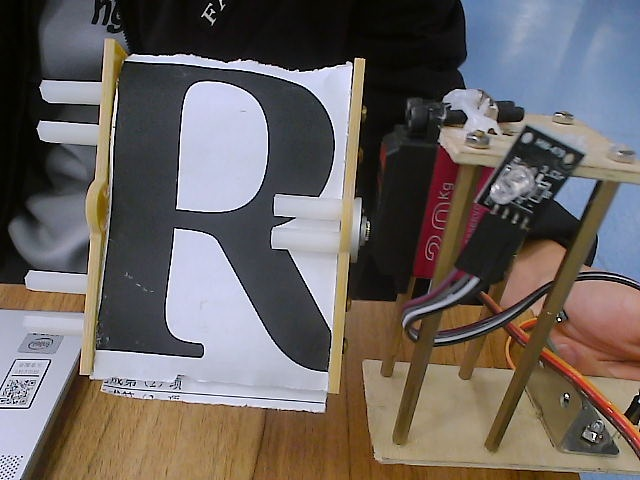R: (35, 43, 396, 436)
